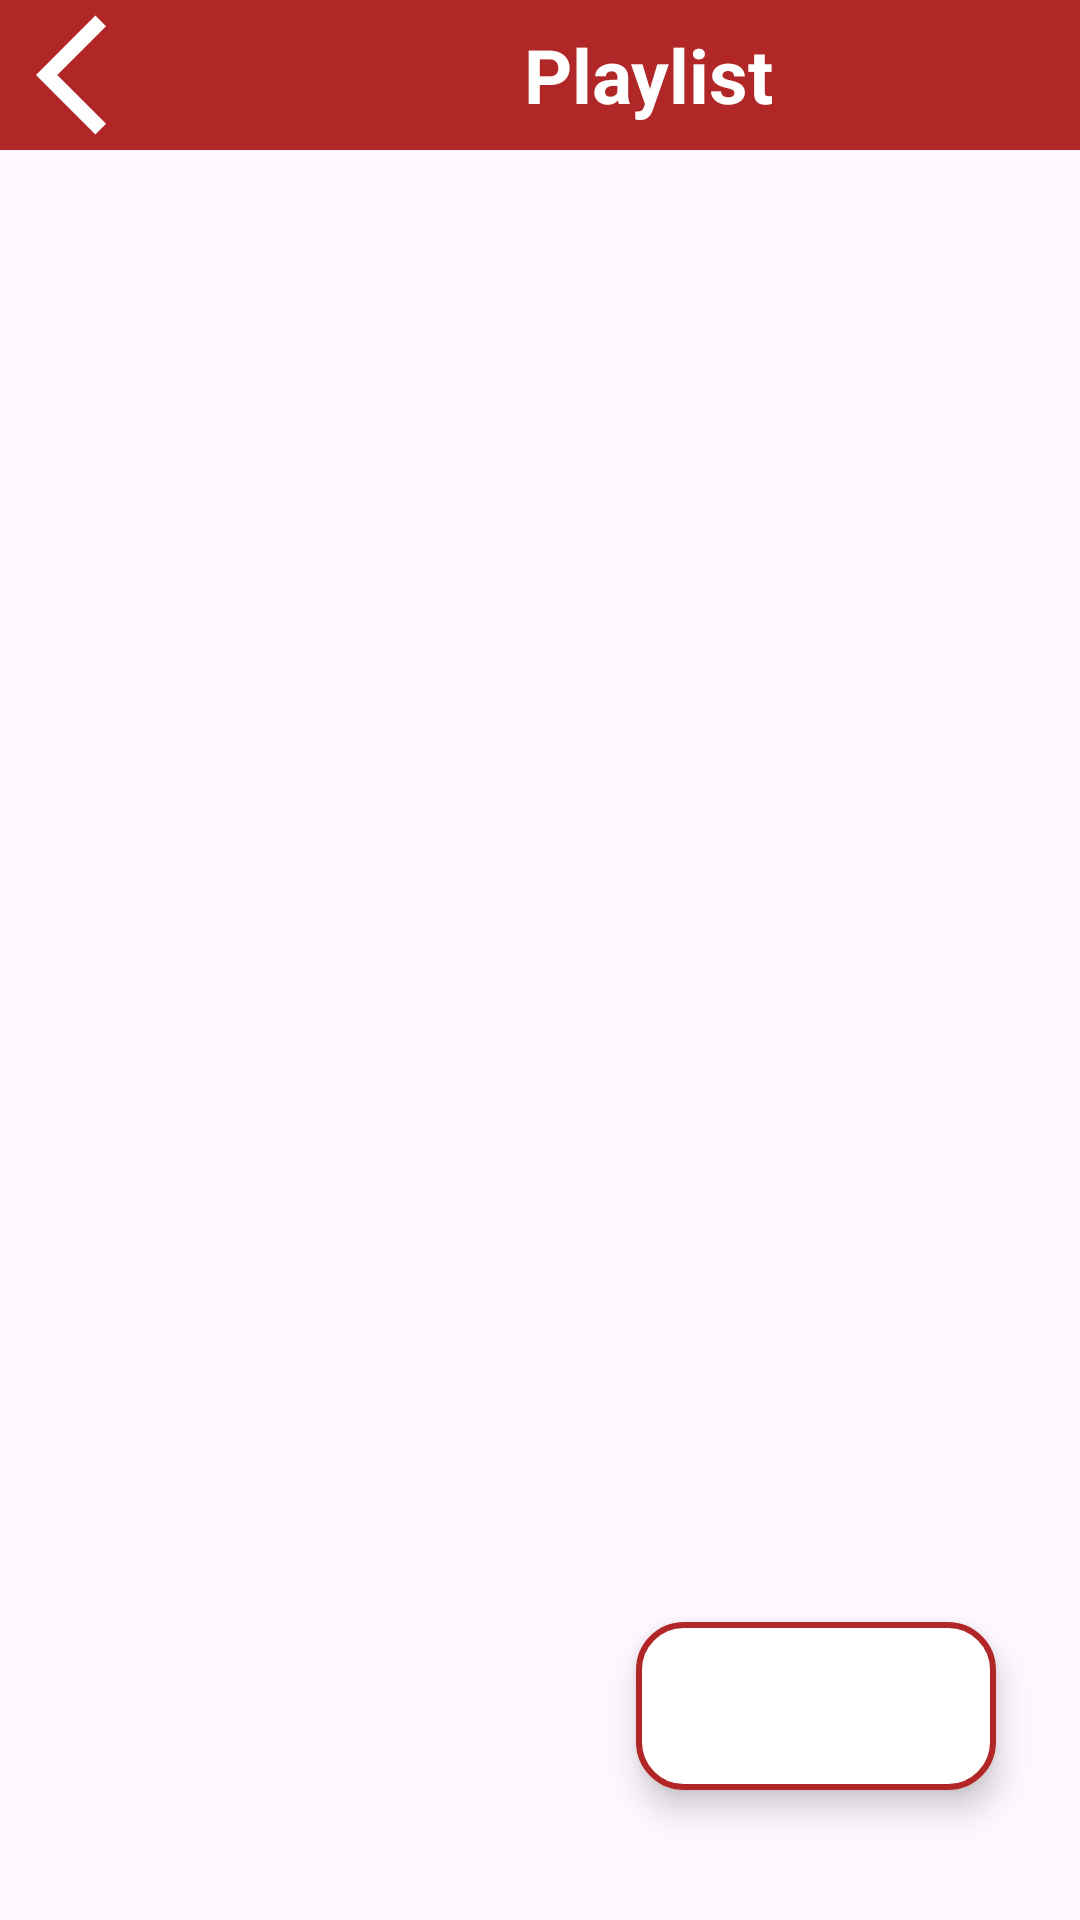

Icon click points for this 1080px×1920px phone screenshot, format (x=x, y=y):
Back: (x=71, y=75)
